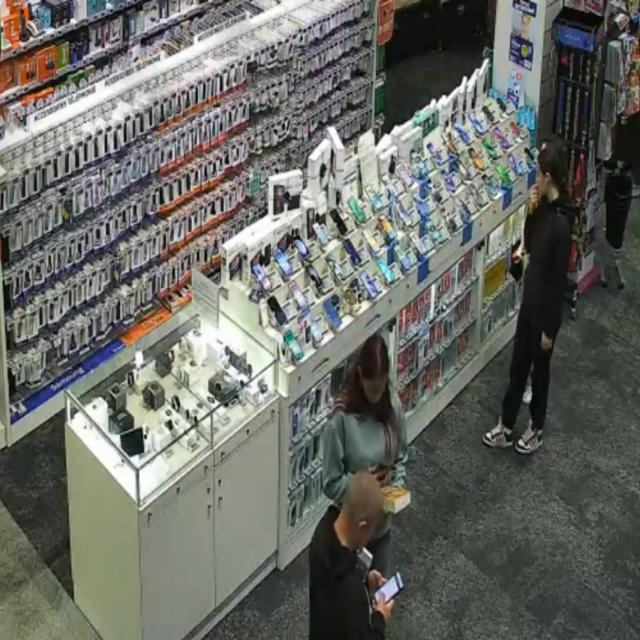article: (381, 484, 411, 514), (356, 547, 373, 584)
hands: (367, 571, 386, 597), (374, 600, 394, 624), (370, 467, 390, 487), (529, 185, 539, 213), (541, 333, 553, 351)
person: (483, 145, 573, 453), (323, 335, 407, 506), (309, 472, 393, 639)
